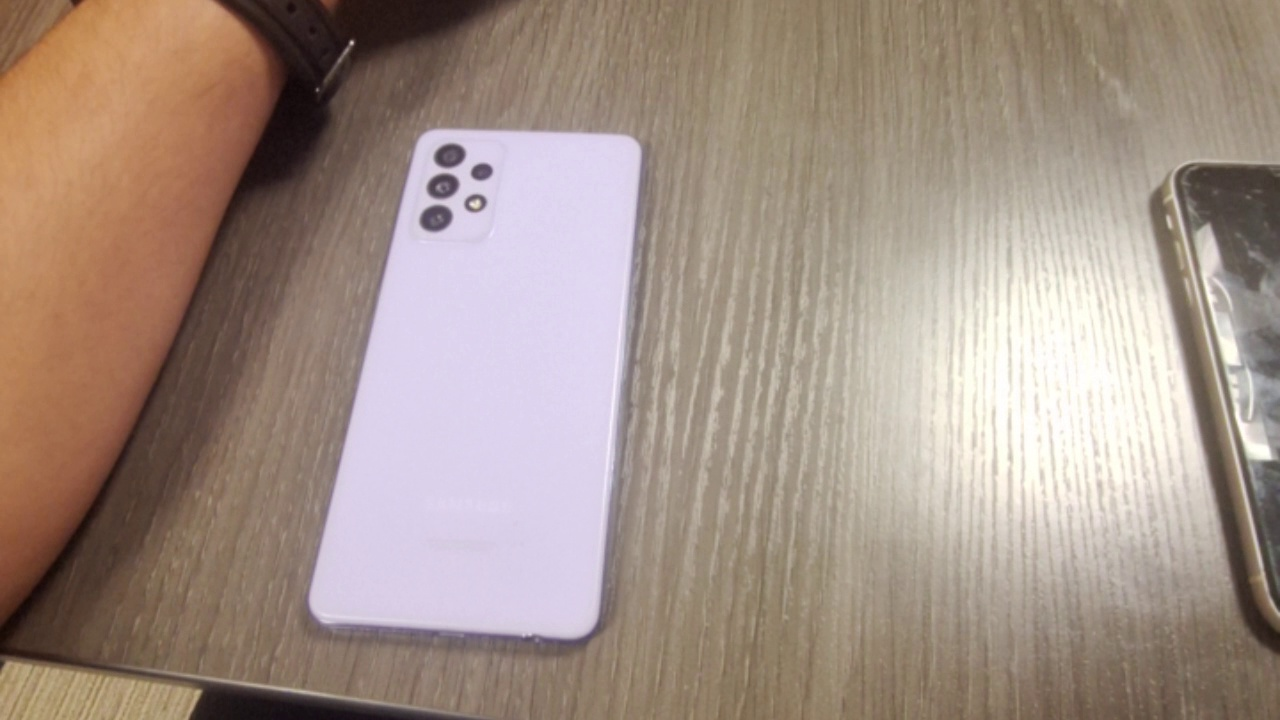celular: (305, 127, 646, 646), (1154, 161, 1279, 650)
